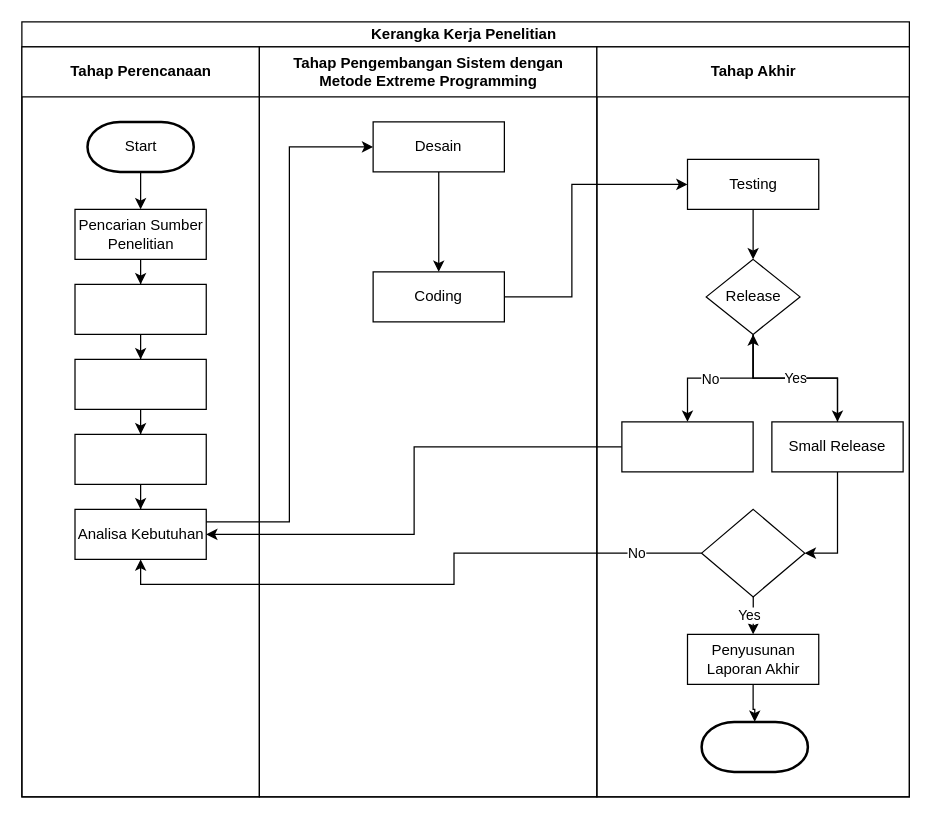
The diagram is 931 pixels wide and 819 high, and some of its shapes have lost their labels. Each missing label, with the centre of its shape:
"End" belongs at (x=754, y=746).
"Feedback" belongs at (x=687, y=446).
"Identifikasi Masalah" belongs at (x=140, y=458).
"Pengumpulan Data" belongs at (x=140, y=383).
"Project Complete" belongs at (x=752, y=552).
"Studi Literatur" belongs at (x=140, y=308).
